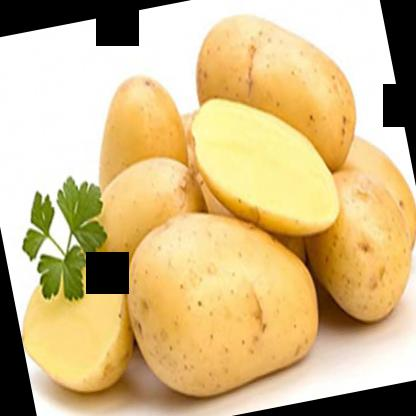potato: (114, 198, 326, 404), (183, 0, 366, 195), (181, 75, 342, 253), (290, 151, 415, 331), (9, 245, 145, 402), (74, 152, 211, 284), (78, 63, 192, 188)
